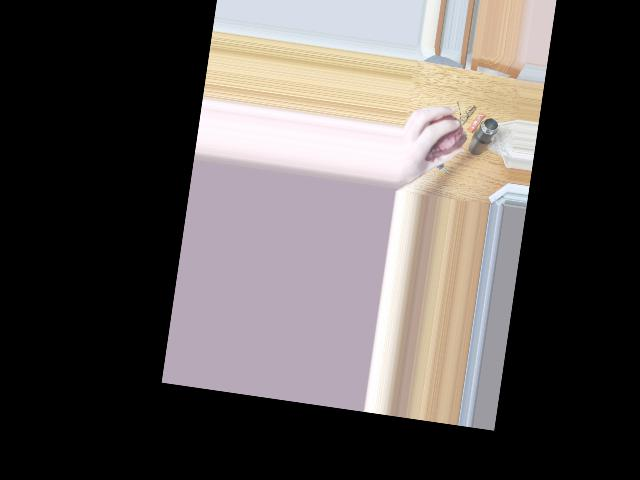onion: (425, 114, 465, 161)
